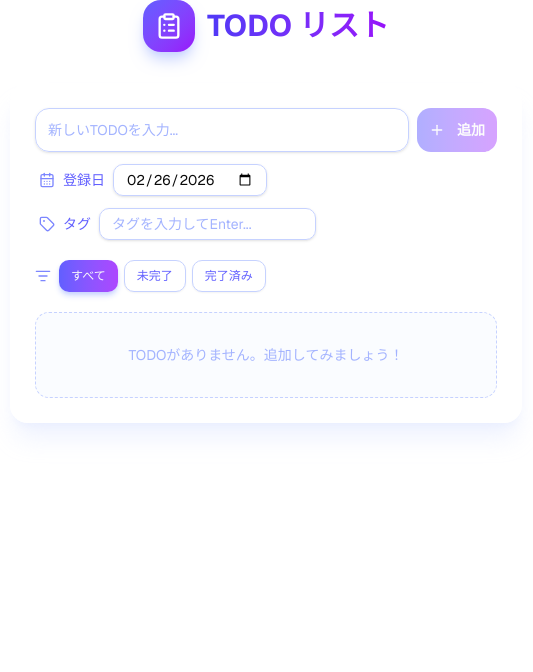
TodoList › TODO追加後に件数が表示される
Type "タスク1" into the field with placeholder "新しいTODOを入力...". click: (222, 130)
box: [35, 108, 409, 152]
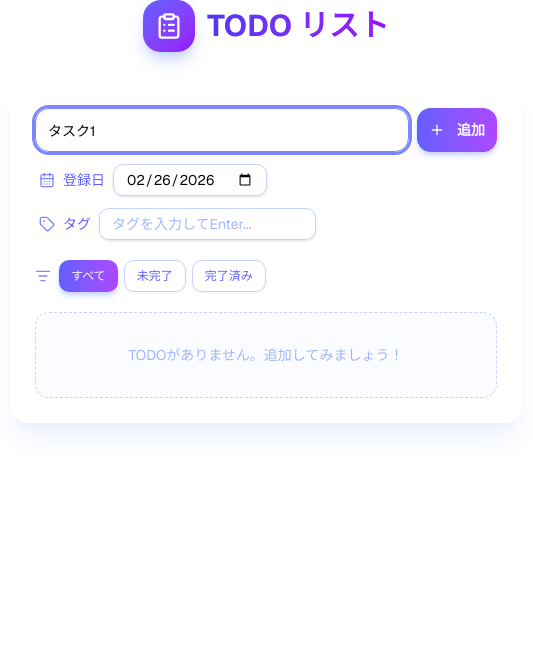
Click the button "追加". click: click(457, 130)
box: [417, 108, 497, 152]
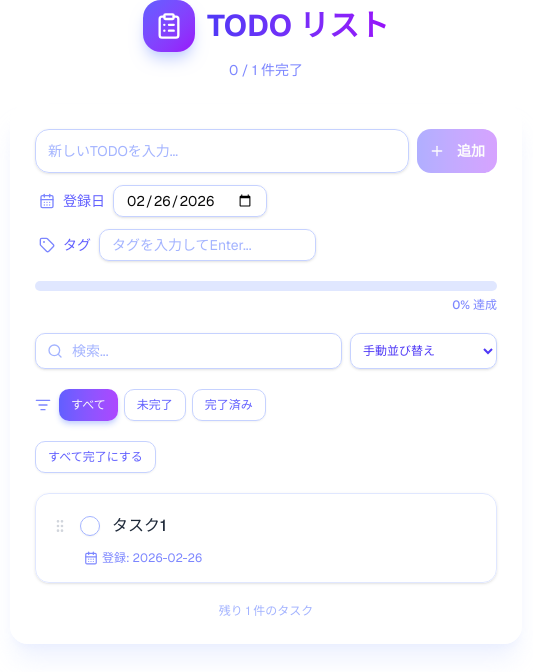
Expected: the text "0 / 1 件完了" is shown, [229, 61, 303, 79]
Expected: the text "残り 1 件のタスク" is shown, [219, 603, 313, 619]
